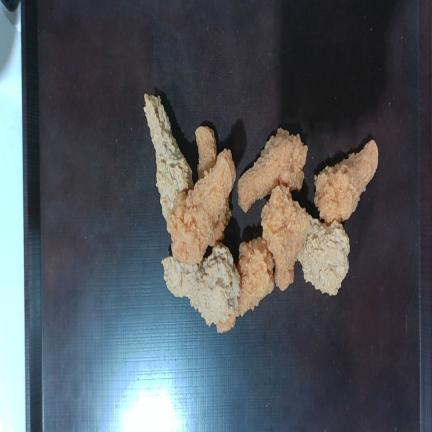chicken: (167, 150, 235, 263), (162, 243, 240, 325), (143, 94, 192, 220), (238, 128, 307, 212), (314, 140, 378, 224), (261, 185, 309, 290), (298, 217, 350, 295), (236, 237, 274, 316), (195, 126, 217, 178)
